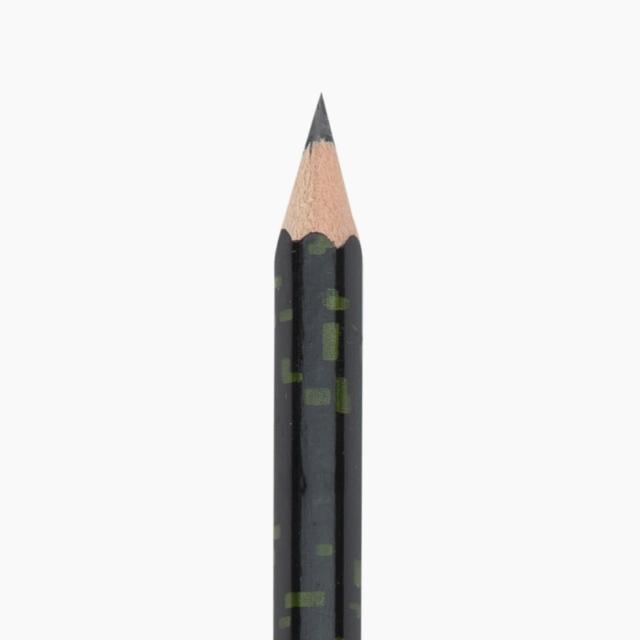pencil: (260, 79, 376, 640)
